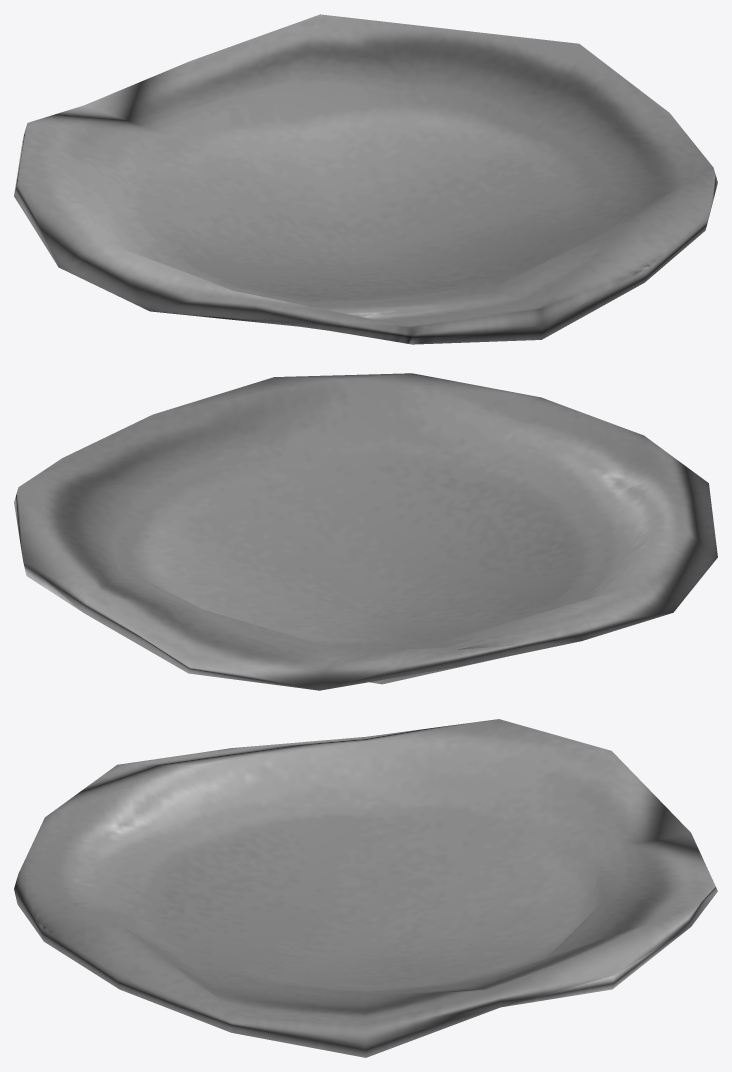
Rendered from tavern_plate_LOD.fbx.
3 views of the same model, one above another, from view 1: azimuth 30°, elevation 25°; view 2: azimuth 150°, elevation 25°; view 3: azimuth 270°, elevation 25° (orthographic).
Visible parts, largest first — view 1: Default_Layer; view 2: Default_Layer; view 3: Default_Layer.
Part boxes in pixels (left/top/right/bottom): Default_Layer: left=14, top=14, right=717, bottom=344; Default_Layer: left=14, top=373, right=717, bottom=690; Default_Layer: left=14, top=719, right=717, bottom=1057.
Bounding box in the file's own units: 279 × 42.21 × 279.
1 material, 1 textured.
